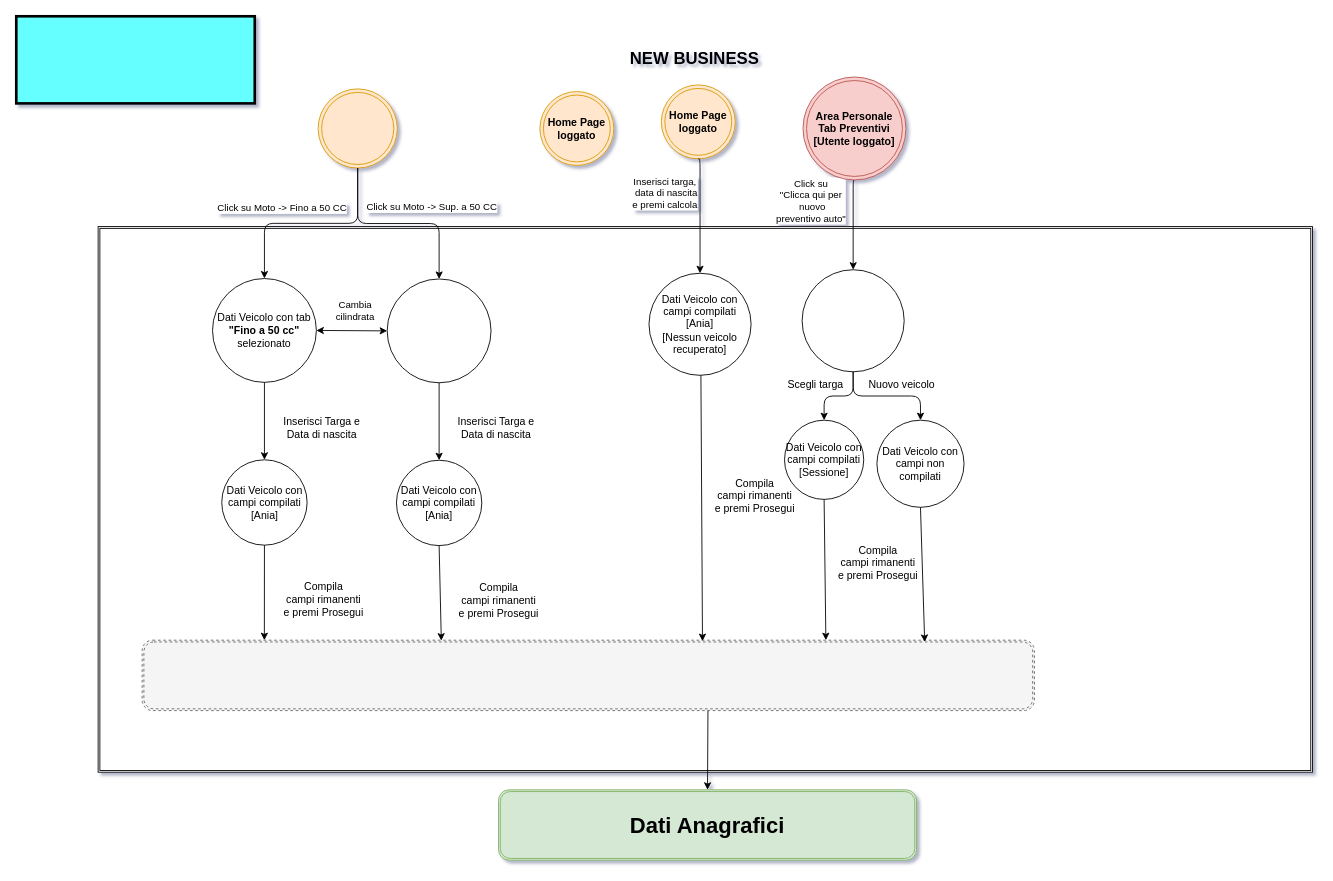
Image size: 1333x881. Some labels were removed from this diagram. Here are the shapes that lost their labels. From the top down, the box of each, then its label:
(15, 15, 256, 104): Dati Veicolo Moto
(317, 88, 397, 168): Home Page non loggato
(386, 278, 491, 383): Dati Veicolo con tab "Superiori a 50 cc" selezionato
(801, 269, 904, 372): Dati Veicolo con campi non compilati [Recupera precedenti veicoli]
(141, 639, 1034, 711): Validazione
